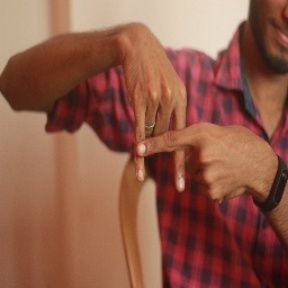H: (105, 73, 218, 197)
